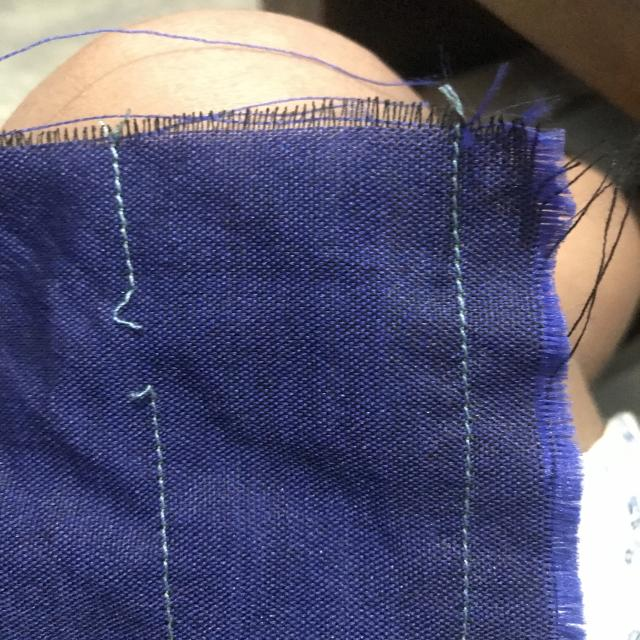broken: (87, 272, 186, 419)
good: (127, 447, 192, 563)
